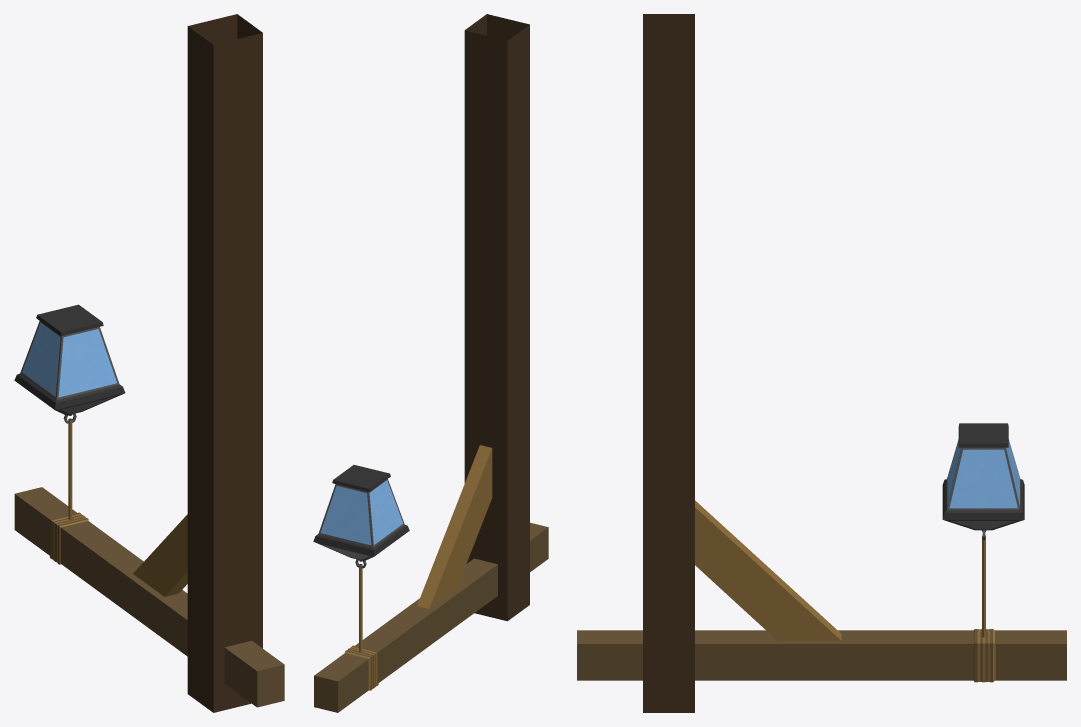
Rendered from sm_lamp_wood_1.fbx.
3 renders of one model, left to right at view 1: azimuth 30°, elevation 25°; view 2: azimuth 150°, elevation 25°; view 3: azimuth 270°, elevation 25°, orthographic. The views are drawn at different scales.
Parts seen in each view (by area): view 1: sm_lamp_wood_1; view 2: sm_lamp_wood_1; view 3: sm_lamp_wood_1.
Part boxes in pixels (bbox=[...]): sm_lamp_wood_1: bbox=[14, 14, 284, 712]; sm_lamp_wood_1: bbox=[313, 14, 548, 712]; sm_lamp_wood_1: bbox=[577, 14, 1066, 712].
Size of the model in its own units: 20.29 by 184 by 121.
